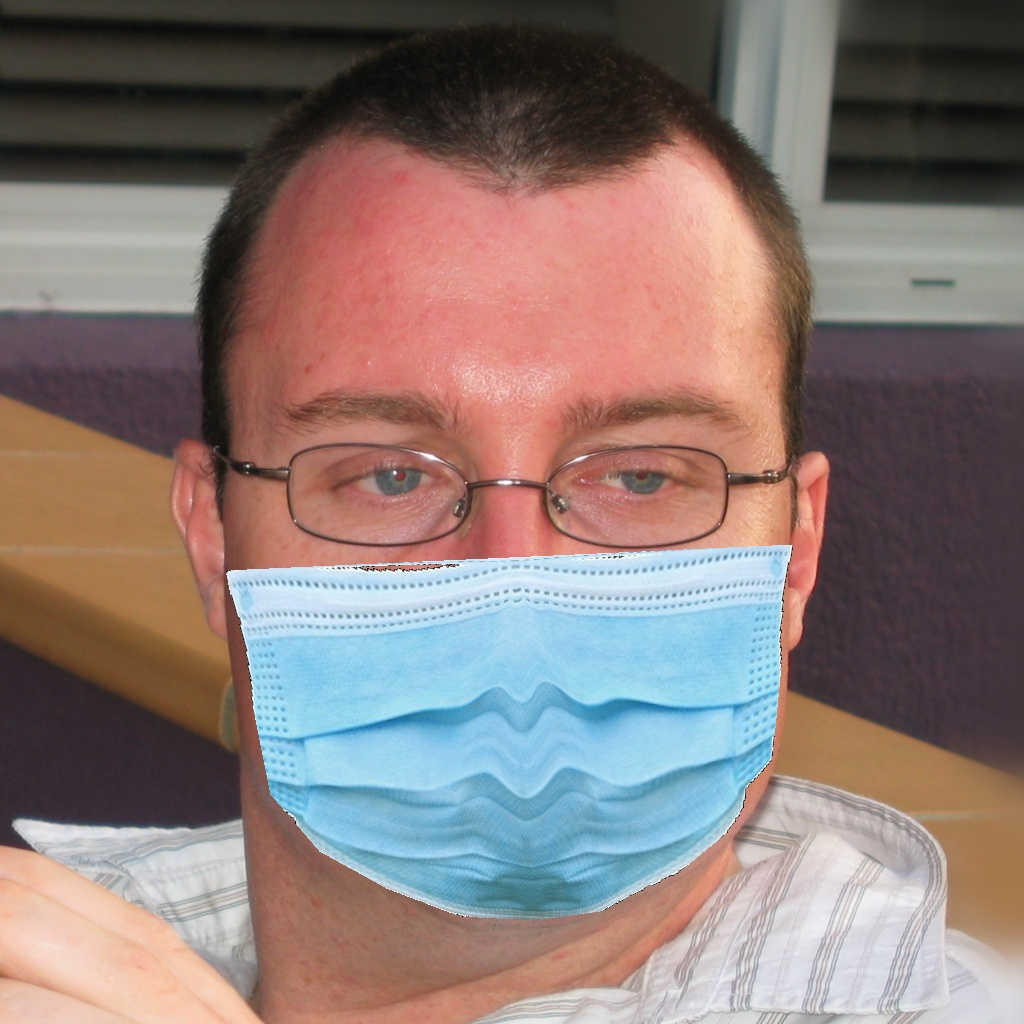Mask: (221, 345, 800, 917)
